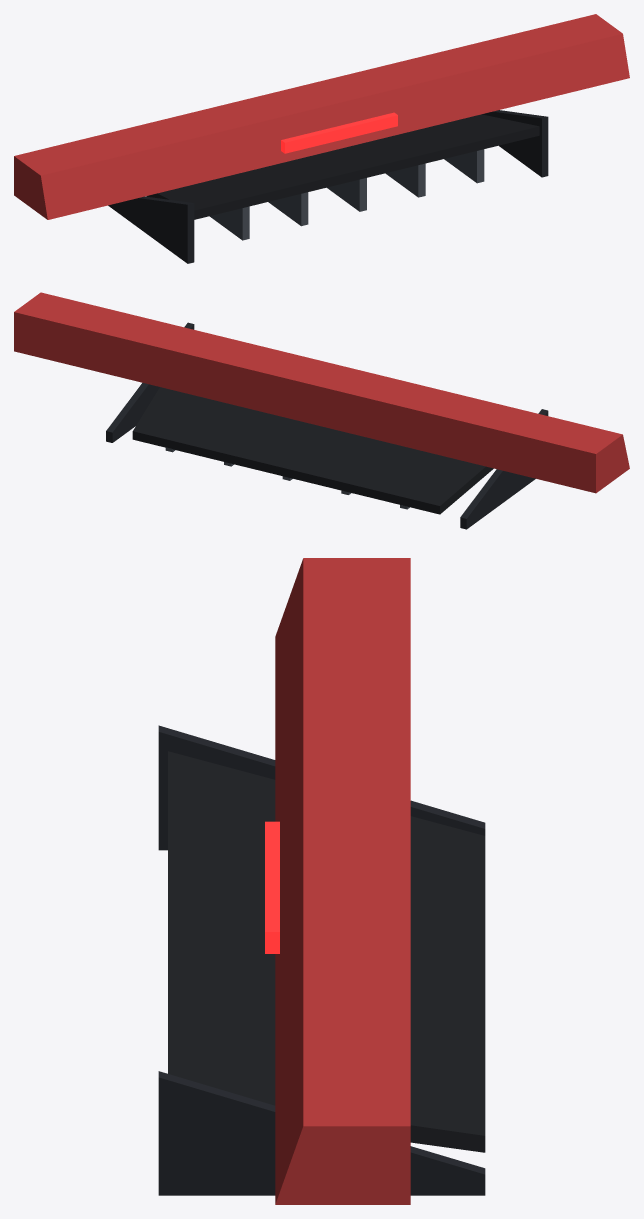
Rendered from bumper_rear_diffuser.glb.
3 views of the same model, one above another, from view 1: azimuth 30°, elevation 25°; view 2: azimuth 150°, elevation 25°; view 3: azimuth 270°, elevation 25° (orthographic). The views are drawn at different scales.
Visible parts, largest first — view 1: Body; view 2: Body; view 3: Body.
Boxes of the visible parts, <box> form: Body: <box>14,14,629,263</box>; Body: <box>14,292,629,529</box>; Body: <box>158,558,485,1204</box>.
Size of the model in its own units: 1.44 by 0.21 by 0.35.
